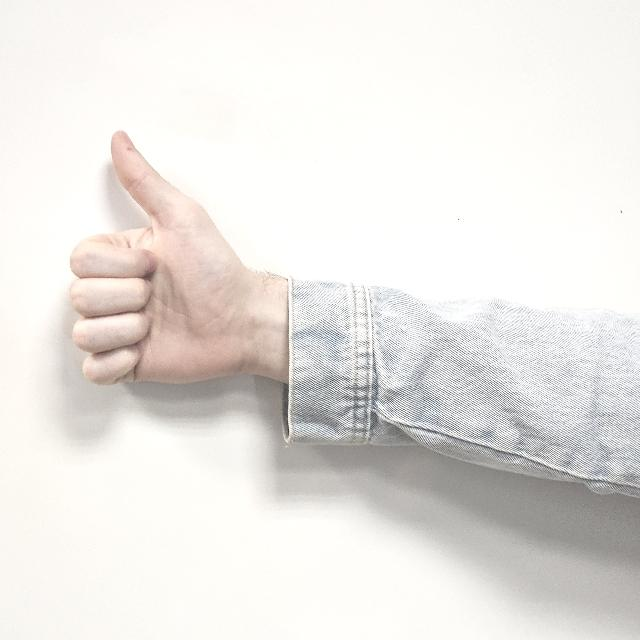Start: (65, 115, 258, 428)
